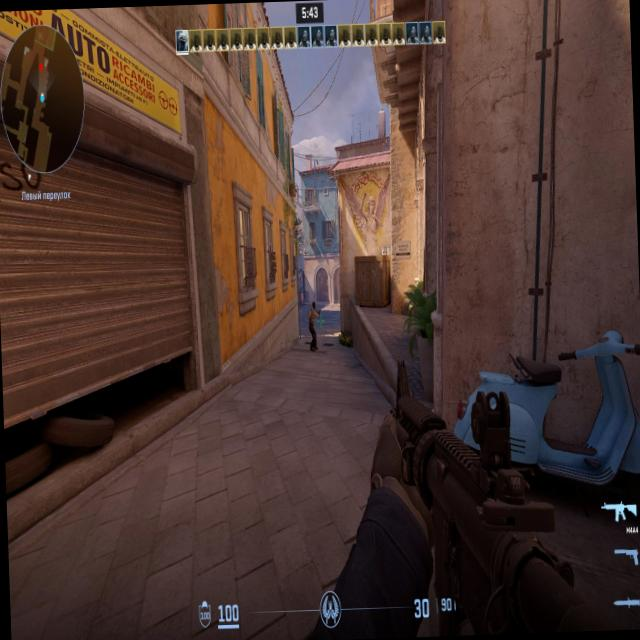T: (310, 304, 317, 356)
T_heat: (312, 304, 316, 312)
